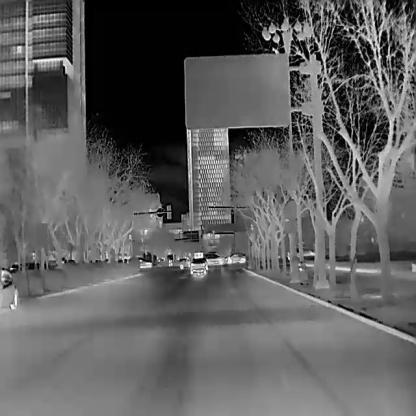car: (0, 265, 18, 308), (189, 258, 205, 276), (226, 253, 245, 263), (138, 256, 152, 268), (173, 258, 189, 268), (192, 250, 203, 258)
